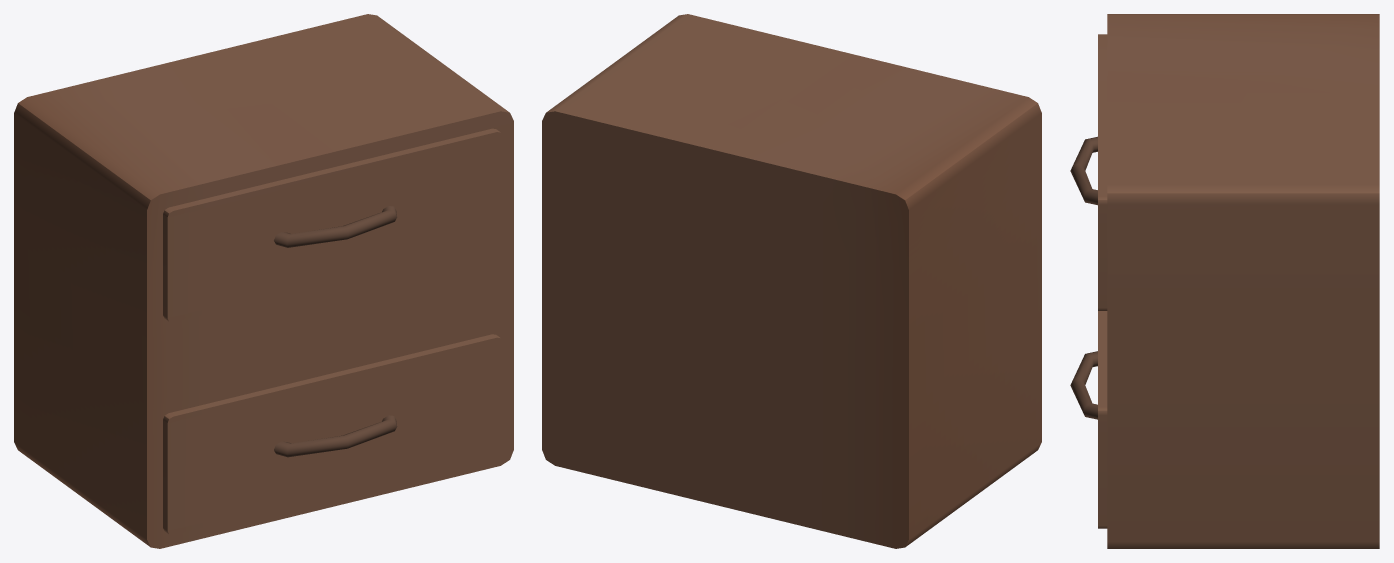
Rendered from Mobile TV sotto.fbx.
The picture shows the model from 3 angles, left to right: view 1: azimuth 30°, elevation 25°; view 2: azimuth 150°, elevation 25°; view 3: azimuth 270°, elevation 25°; orthographic projection. The views are drawn at different scales.
Parts seen in each view (by area): view 1: Mobile_TV_Sotto; view 2: Mobile_TV_Sotto; view 3: Mobile_TV_Sotto.
Boxes of the visible parts, <box> form: Mobile_TV_Sotto: <box>14,14,513,548</box>; Mobile_TV_Sotto: <box>542,14,1041,548</box>; Mobile_TV_Sotto: <box>1070,14,1379,548</box>.
Size of the model in its own units: 1.74 by 1.6 by 1.24.
